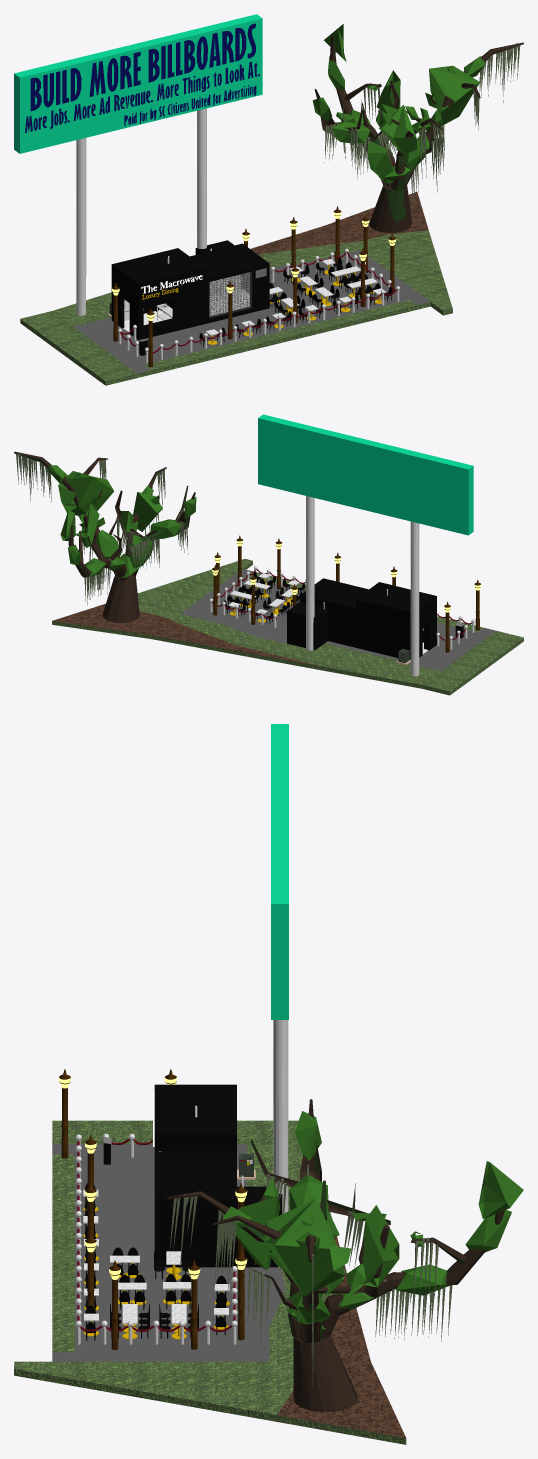
The model's file is Macrowave.glb.
3 views of the same model, one above another, from view 1: azimuth 30°, elevation 25°; view 2: azimuth 150°, elevation 25°; view 3: azimuth 270°, elevation 25° (orthographic). The views are drawn at different scales.
Visible parts, largest first — view 1: Billboard, Ground, Ground.001, Text, Leaves, Main Kitchen, Trunk, Spanish Moss, Supports, Macrowave Outer, Lamps, Ropes (+4 smaller); view 2: Billboard, Ground.001, Leaves, Ground, Trunk, Main Kitchen, Supports, Spanish Moss, Macrowave Outer, Lamps, RR, Roof (+3 smaller); view 3: Ground, Ground.001, Leaves, Trunk, Macrowave Outer, Spanish Moss, Billboard, Roof, Lamps, Table.022, Chair, Supports (+2 smaller).
Boxes of the visible parts, bbox=[...] form: Billboard: bbox=[14, 14, 262, 153]; Ground: bbox=[66, 249, 430, 377]; Ground.001: bbox=[20, 192, 452, 385]; Text: bbox=[25, 23, 259, 132]; Leaves: bbox=[312, 24, 484, 183]; Main Kitchen: bbox=[111, 267, 205, 340]; Trunk: bbox=[314, 35, 523, 232]; Spanish Moss: bbox=[324, 43, 520, 206]; Supports: bbox=[76, 108, 206, 315]; Macrowave Outer: bbox=[190, 243, 269, 315]; Lamps: bbox=[112, 206, 396, 367]; Ropes: bbox=[118, 248, 400, 363]; Billboard: bbox=[258, 414, 473, 535]; Ground.001: bbox=[52, 559, 523, 695]; Leaves: bbox=[45, 465, 196, 578]; Ground: bbox=[181, 568, 496, 675]; Trunk: bbox=[14, 451, 195, 622]; Main Kitchen: bbox=[356, 598, 436, 659]; Supports: bbox=[306, 496, 419, 676]; Spanish Moss: bbox=[16, 453, 188, 605]; Macrowave Outer: bbox=[300, 578, 366, 647]; Lamps: bbox=[212, 535, 481, 652]; RR: bbox=[287, 602, 327, 650]; Roof: bbox=[356, 582, 436, 614]; Ground: bbox=[52, 1144, 269, 1361]; Ground.001: bbox=[14, 1120, 406, 1444]; Leaves: bbox=[223, 1111, 523, 1331]; Trunk: bbox=[167, 1099, 504, 1412]; Macrowave Outer: bbox=[154, 1151, 236, 1267]; Spanish Moss: bbox=[169, 1165, 452, 1385]; Billboard: bbox=[271, 724, 288, 1019]; Roof: bbox=[154, 1084, 236, 1137]; Lamps: bbox=[59, 1069, 247, 1349]; Table.022: bbox=[83, 1189, 229, 1339]; Chair: bbox=[84, 1183, 226, 1340]; Supports: bbox=[273, 1020, 288, 1213].
Size of what is drawn, in the model's own units: 36.64 by 17.53 by 20.61.
48 materials, 3 textured.
